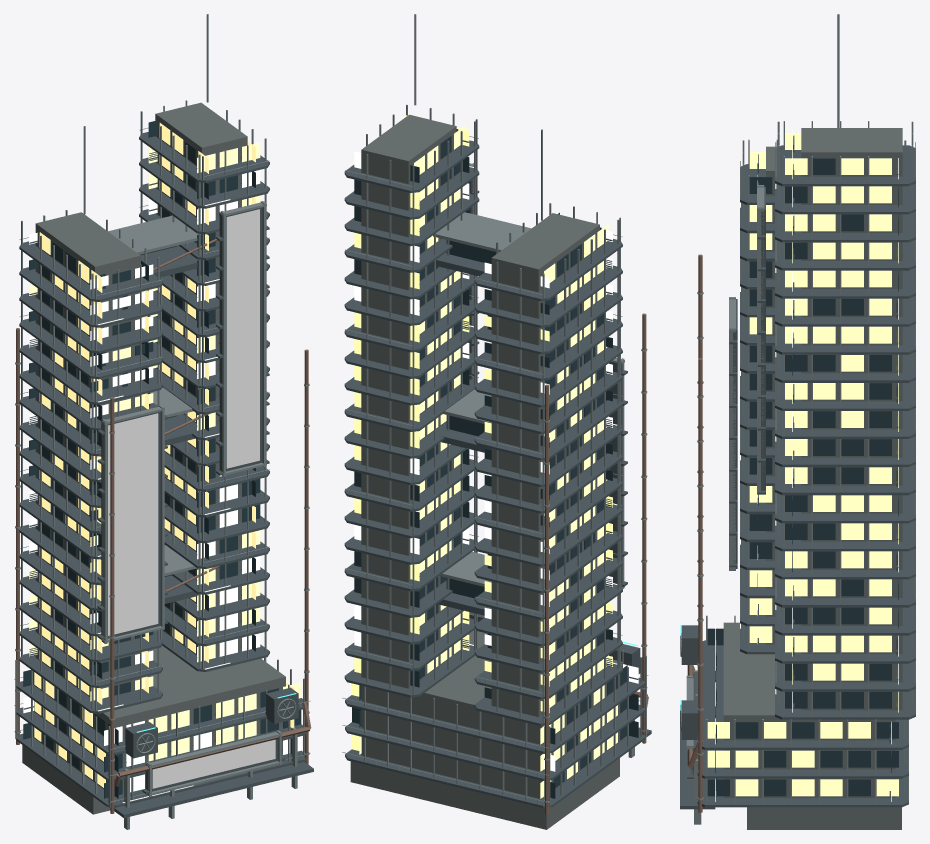
File: split-spire.glb
3 views of the same model, side by side, from view 1: azimuth 30°, elevation 25°; view 2: azimuth 150°, elevation 25°; view 3: azimuth 270°, elevation 25° (orthographic). The views are drawn at different scales.
Visible parts, largest first — view 1: split-spire-Armor, split-spire-Edge, split-spire-Concrete, split-spire-Warm, split-spire-Glass, split-spire-AdPortrait, split-spire-AdVertical, split-spire-Pearl, split-spire-Copper, split-spire-AdStrip; view 2: split-spire-Armor, split-spire-Concrete, split-spire-Edge, split-spire-Warm, split-spire-Glass, split-spire-Copper, split-spire-Pearl; view 3: split-spire-Armor, split-spire-Concrete, split-spire-Warm, split-spire-Glass, split-spire-Edge, split-spire-Copper, split-spire-Pearl.
Boxes of the visible parts, x1,y1,x2,y2 form: split-spire-Armor: [16, 132, 313, 817]; split-spire-Edge: [14, 14, 310, 829]; split-spire-Concrete: [22, 102, 285, 814]; split-spire-Warm: [29, 123, 301, 787]; split-spire-Glass: [23, 120, 301, 798]; split-spire-AdPortrait: [108, 413, 158, 635]; split-spire-AdVertical: [226, 209, 259, 468]; split-spire-Pearl: [23, 107, 301, 802]; split-spire-Copper: [16, 239, 311, 813]; split-spire-AdStrip: [152, 739, 275, 788]; split-spire-Armor: [344, 140, 651, 808]; split-spire-Concrete: [350, 114, 622, 829]; split-spire-Edge: [342, 14, 648, 808]; split-spire-Warm: [352, 114, 617, 798]; split-spire-Glass: [352, 129, 638, 798]; split-spire-Copper: [545, 313, 648, 814]; split-spire-Pearl: [354, 151, 638, 771]; split-spire-Armor: [680, 145, 915, 809]; split-spire-Concrete: [723, 128, 902, 829]; split-spire-Warm: [707, 129, 898, 801]; split-spire-Glass: [707, 135, 898, 796]; split-spire-Edge: [680, 14, 915, 824]; split-spire-Copper: [687, 254, 703, 812]; split-spire-Pearl: [715, 151, 898, 801].
Bounding box in the file's own units: 36 × 125 × 33.5.
